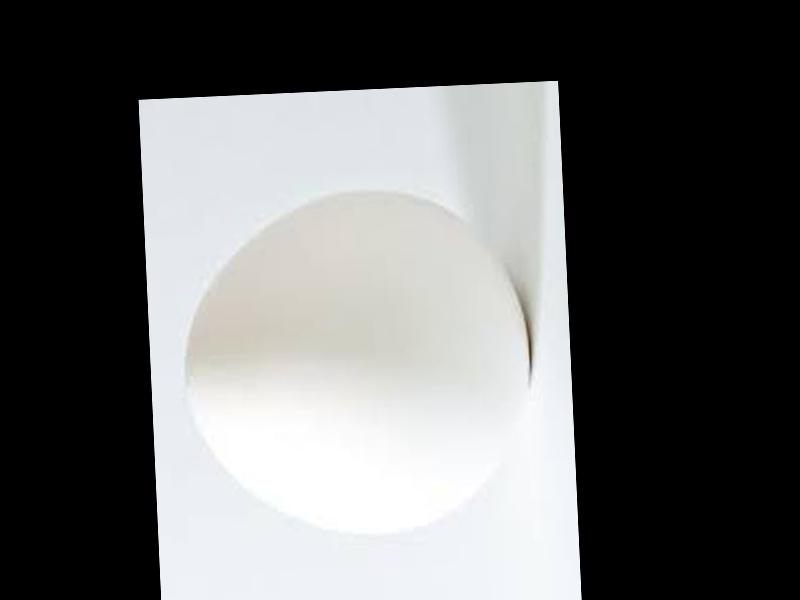Eggs: (175, 187, 537, 541)
